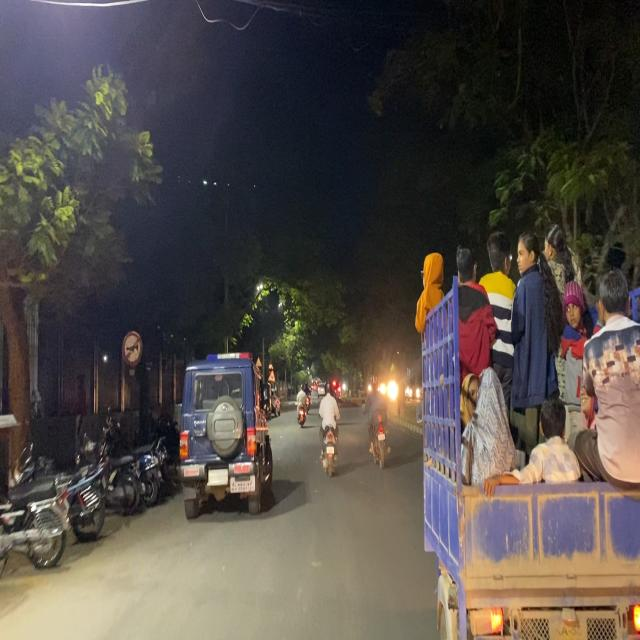bien_cam: (122, 330, 143, 366)
